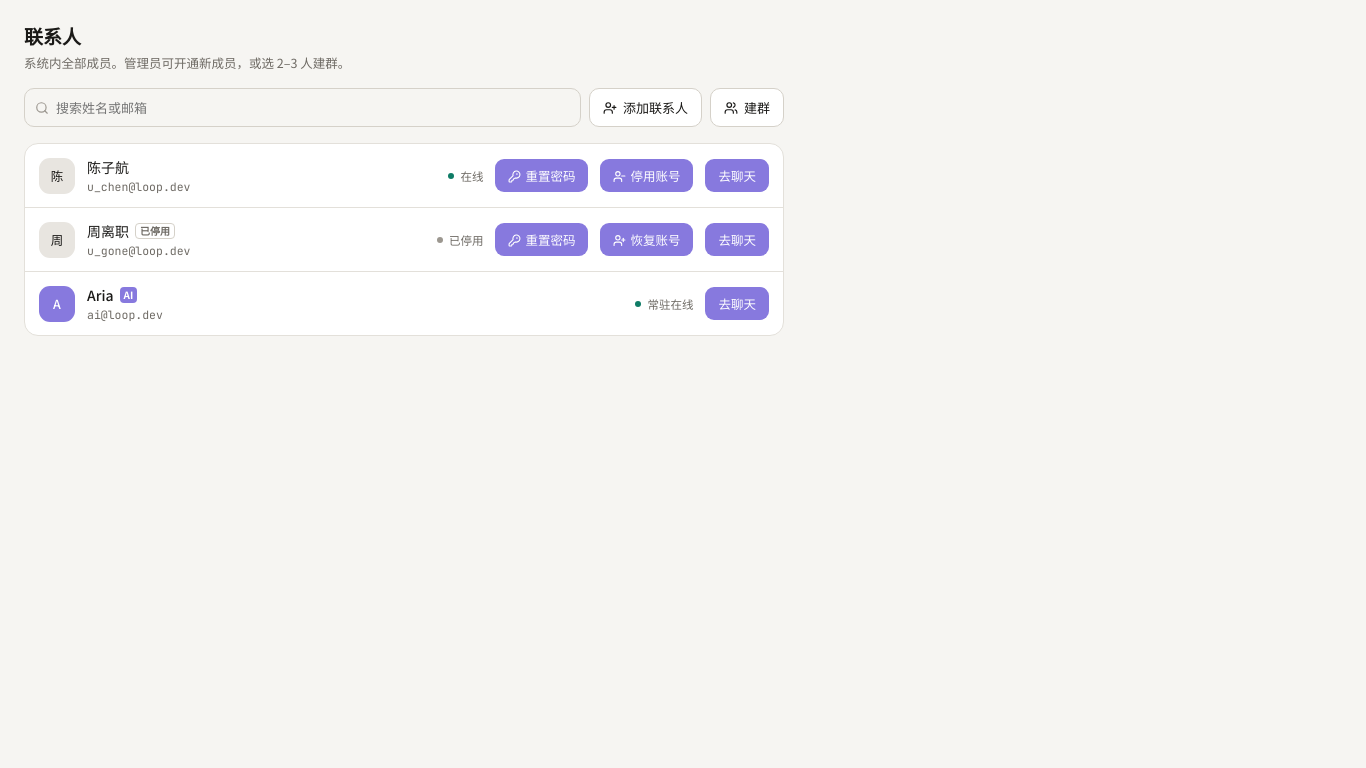
Scenario: 停用弹窗 › 成功后关掉弹窗并把结果回报给上层
Step 1. Click the button titled "停用 陈子航 的账号" → (647,176), box x1=600 y1=159 x2=694 y2=192
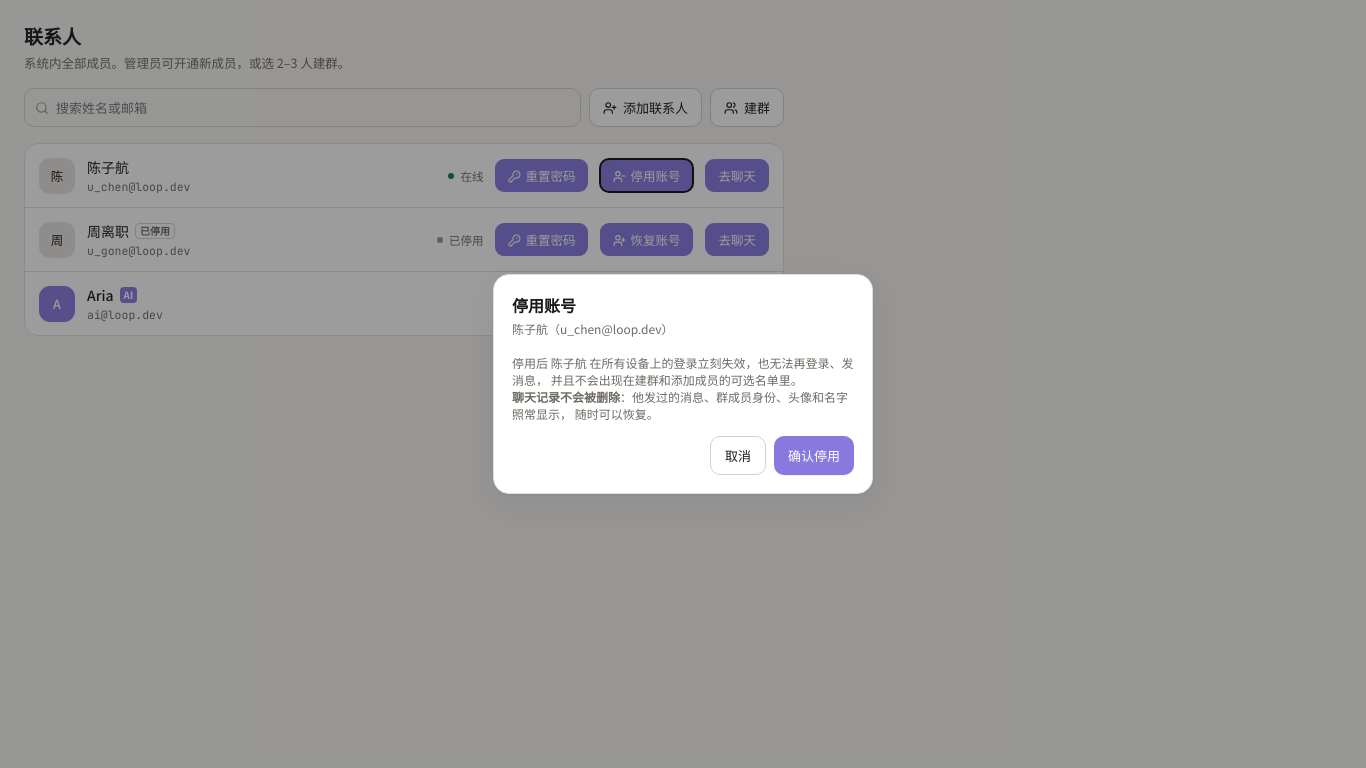
Step 2. Click the button "确认停用" → (814,456), box x1=774 y1=436 x2=854 y2=475
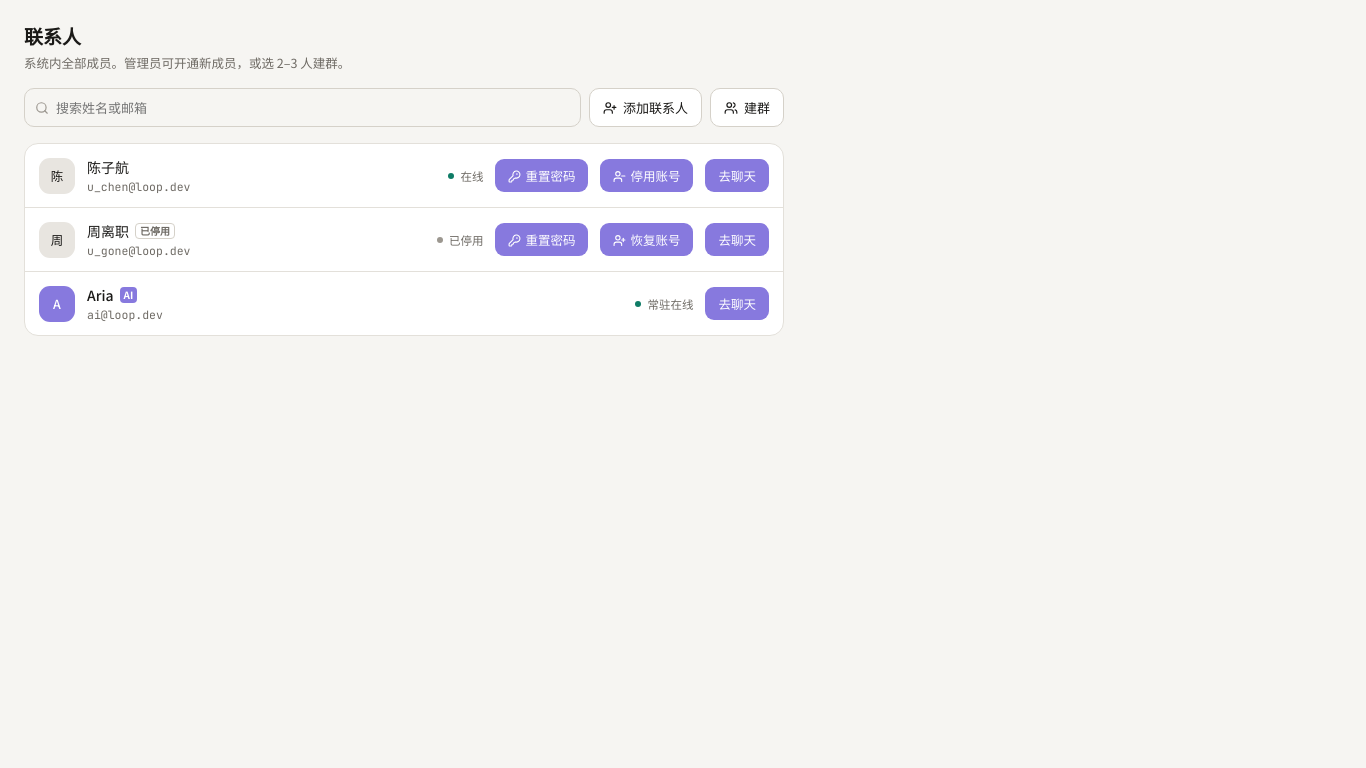
expect the button "确认停用" is gone: met
